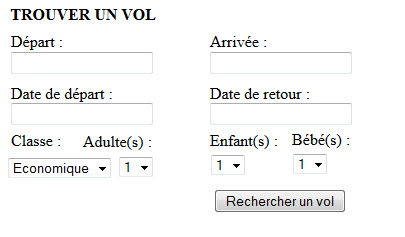_form_: (1, 1, 405, 237)
button: (214, 189, 346, 213)
field: (10, 102, 154, 127), (209, 51, 353, 74), (10, 52, 153, 75), (209, 103, 353, 125)
field_with_label: (8, 34, 154, 76), (8, 87, 155, 128), (207, 87, 355, 127), (207, 35, 354, 75), (208, 134, 272, 176), (290, 133, 344, 176)
select: (7, 158, 112, 179), (118, 156, 153, 178), (292, 154, 328, 175), (210, 154, 244, 175)
